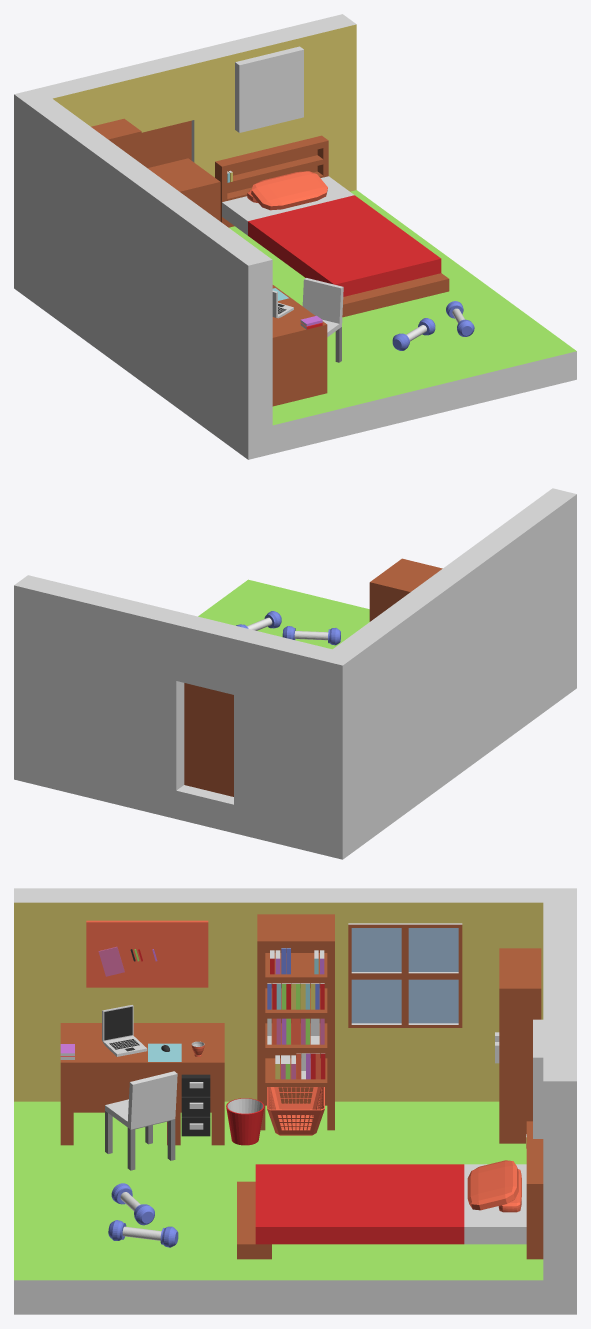
Rendered from poziom_startowyv1.fbx.
3 views of the same model, one above another, from view 1: azimuth 30°, elevation 25°; view 2: azimuth 150°, elevation 25°; view 3: azimuth 270°, elevation 25° (orthographic). The views are drawn at different scales.
Parts seen in each view (by area): view 1: Cube, Cube.003, Cube.012, Cube.005, lozko1, Cube.006, Cube.025, Cube.017, Cube.034, Cube.015, szafa, Cylinder.001; view 2: Cube, Cube.034, Cube.017, Cylinder.001; view 3: Cube, Cube.003, Cube.005, Cube.017, Cube.013, szafa, Cube.015, Cube.016, lozko1, Cube.025, Cube.006, Cube.002 (+11 smaller).
Boxes of the visible parts, x1,y1,x2,y2 form: Cube: [14, 14, 576, 459]; Cube.003: [222, 176, 441, 296]; Cube.012: [235, 46, 303, 132]; Cube.005: [272, 285, 327, 406]; lozko1: [215, 135, 328, 227]; Cube.006: [342, 273, 449, 317]; Cube.025: [251, 171, 327, 210]; Cube.017: [147, 158, 220, 221]; Cube.034: [141, 120, 191, 167]; Cube.015: [302, 278, 343, 362]; szafa: [91, 118, 141, 163]; Cylinder.001: [392, 318, 435, 350]; Cube: [14, 488, 576, 859]; Cube.034: [184, 683, 233, 796]; Cube.017: [369, 558, 442, 621]; Cylinder.001: [282, 626, 340, 645]; Cube: [14, 888, 576, 1314]; Cube.003: [255, 1164, 526, 1244]; Cube.005: [60, 1023, 224, 1145]; Cube.017: [257, 914, 334, 1130]; Cube.013: [86, 920, 208, 987]; szafa: [495, 948, 541, 1143]; Cube.015: [105, 1071, 177, 1170]; Cube.016: [267, 1087, 324, 1135]; lozko1: [526, 1121, 543, 1259]; Cube.025: [467, 1160, 518, 1210]; Cube.006: [237, 1181, 271, 1259]; Cube.002: [102, 1005, 147, 1056].
Bounding box in the file's own units: 640 × 361 × 790.
